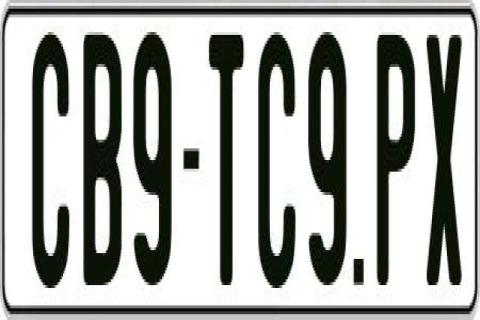0: (133, 23, 172, 285), (306, 29, 344, 297)
B: (81, 35, 121, 297)
C: (30, 32, 71, 288), (255, 32, 294, 294)
P: (376, 29, 413, 288)
T: (209, 35, 243, 303)
X: (424, 29, 464, 288)
